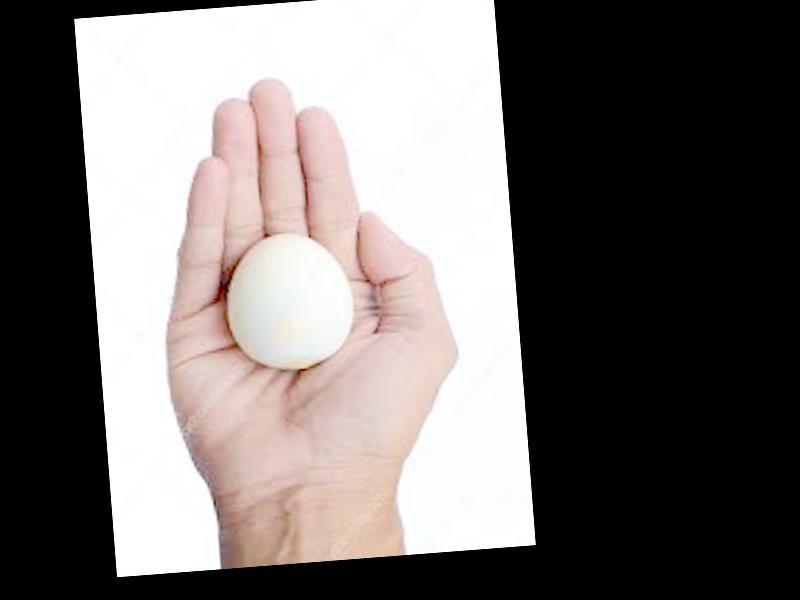Eggs: (224, 226, 354, 373)
